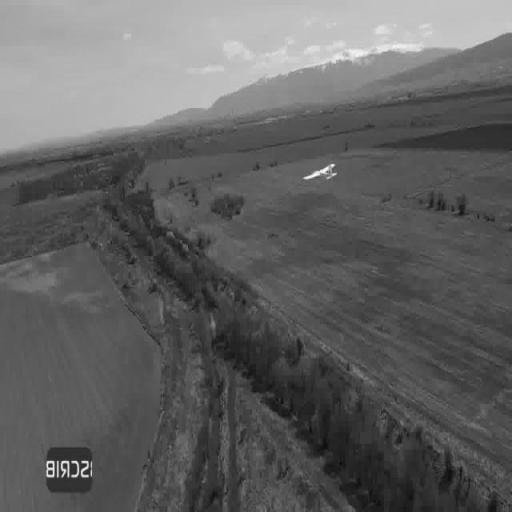uav: (298, 158, 339, 190)
